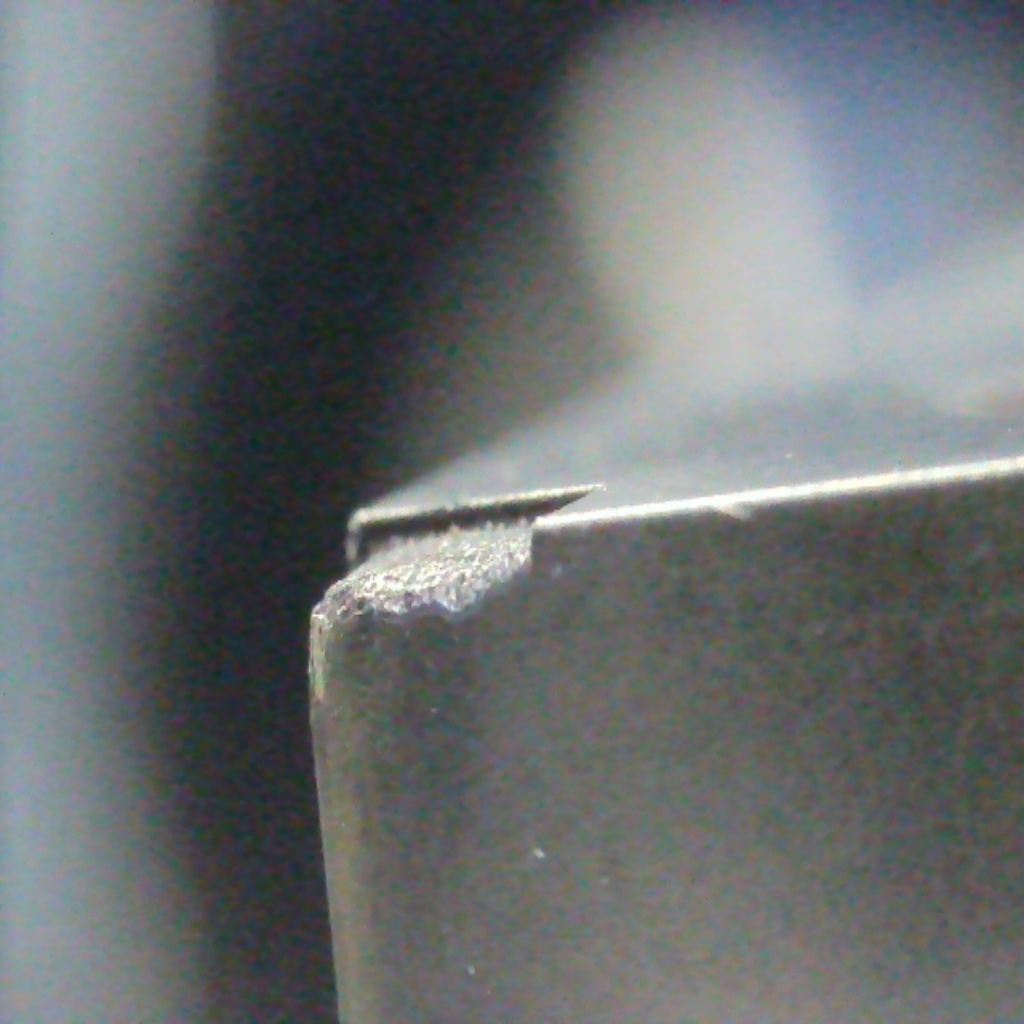flank_wear: (307, 612, 338, 705)
